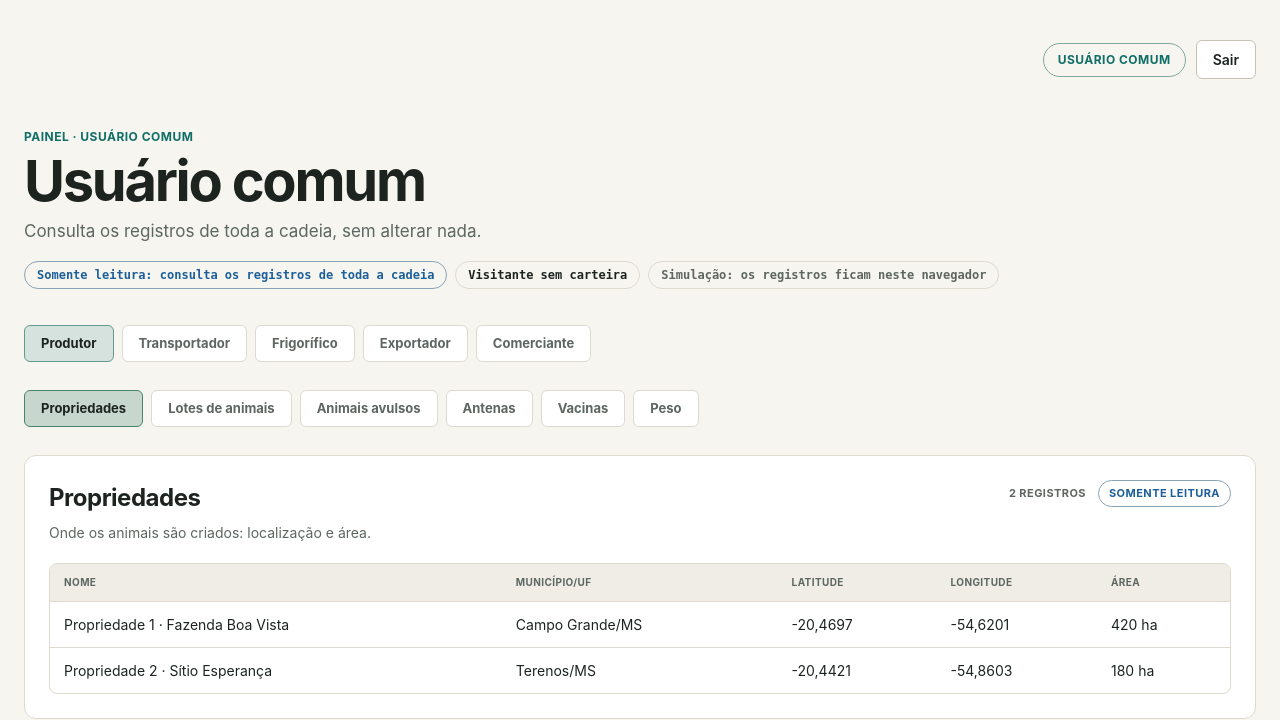
Test: demo workspace page › shows the whole chain to the common user without any change action
Click the button "Comerciante" at (534, 343), box left=476, top=324, right=591, bottom=362
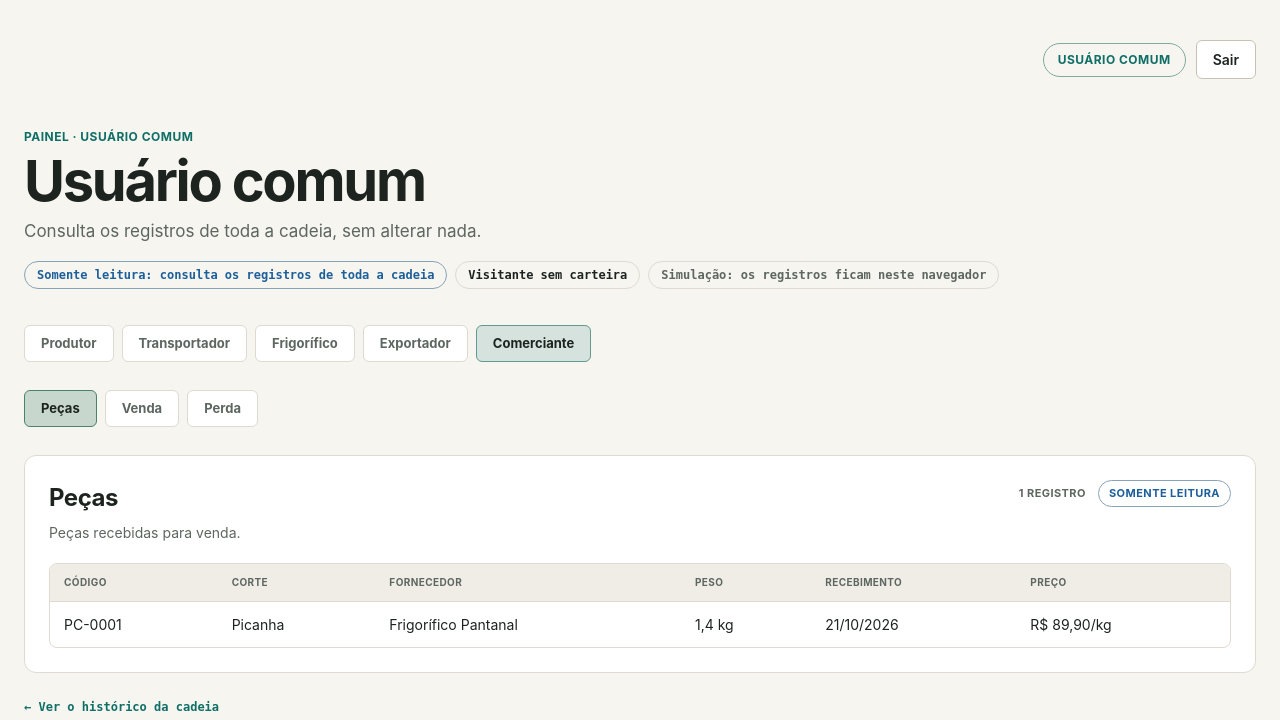
Click the button "Venda" at (142, 408), box left=105, top=390, right=179, bottom=426
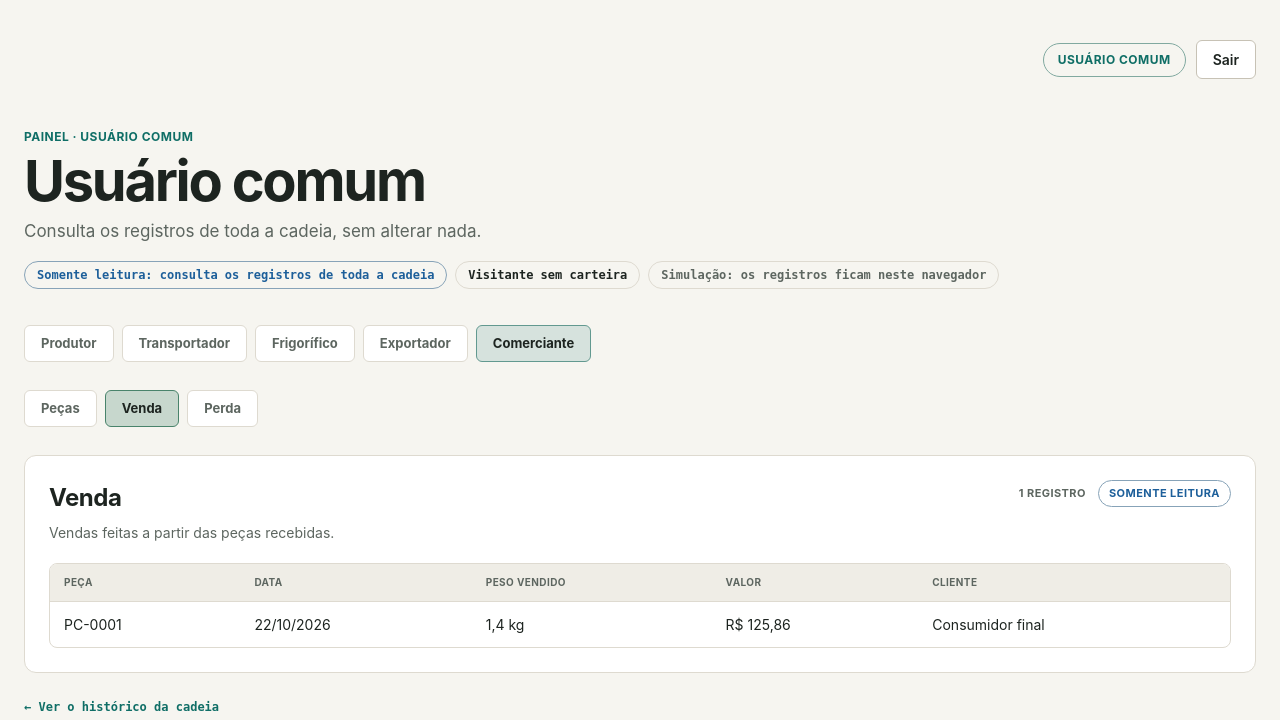
Expected: the text "Somente leitura" is shown, left=37, top=268, right=434, bottom=282
Expected: the row "PC-0001 22/10/2026 1,4 kg R$ 125,86 Consumidor final" is shown, left=50, top=602, right=1230, bottom=646
